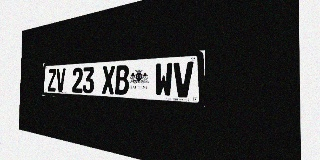2: (72, 67, 83, 93)
3: (83, 67, 94, 93)
B: (115, 65, 129, 95)
V: (173, 61, 193, 98), (56, 68, 65, 92)
W: (155, 62, 173, 97)
X: (102, 66, 115, 94)
Z: (48, 69, 56, 92)
